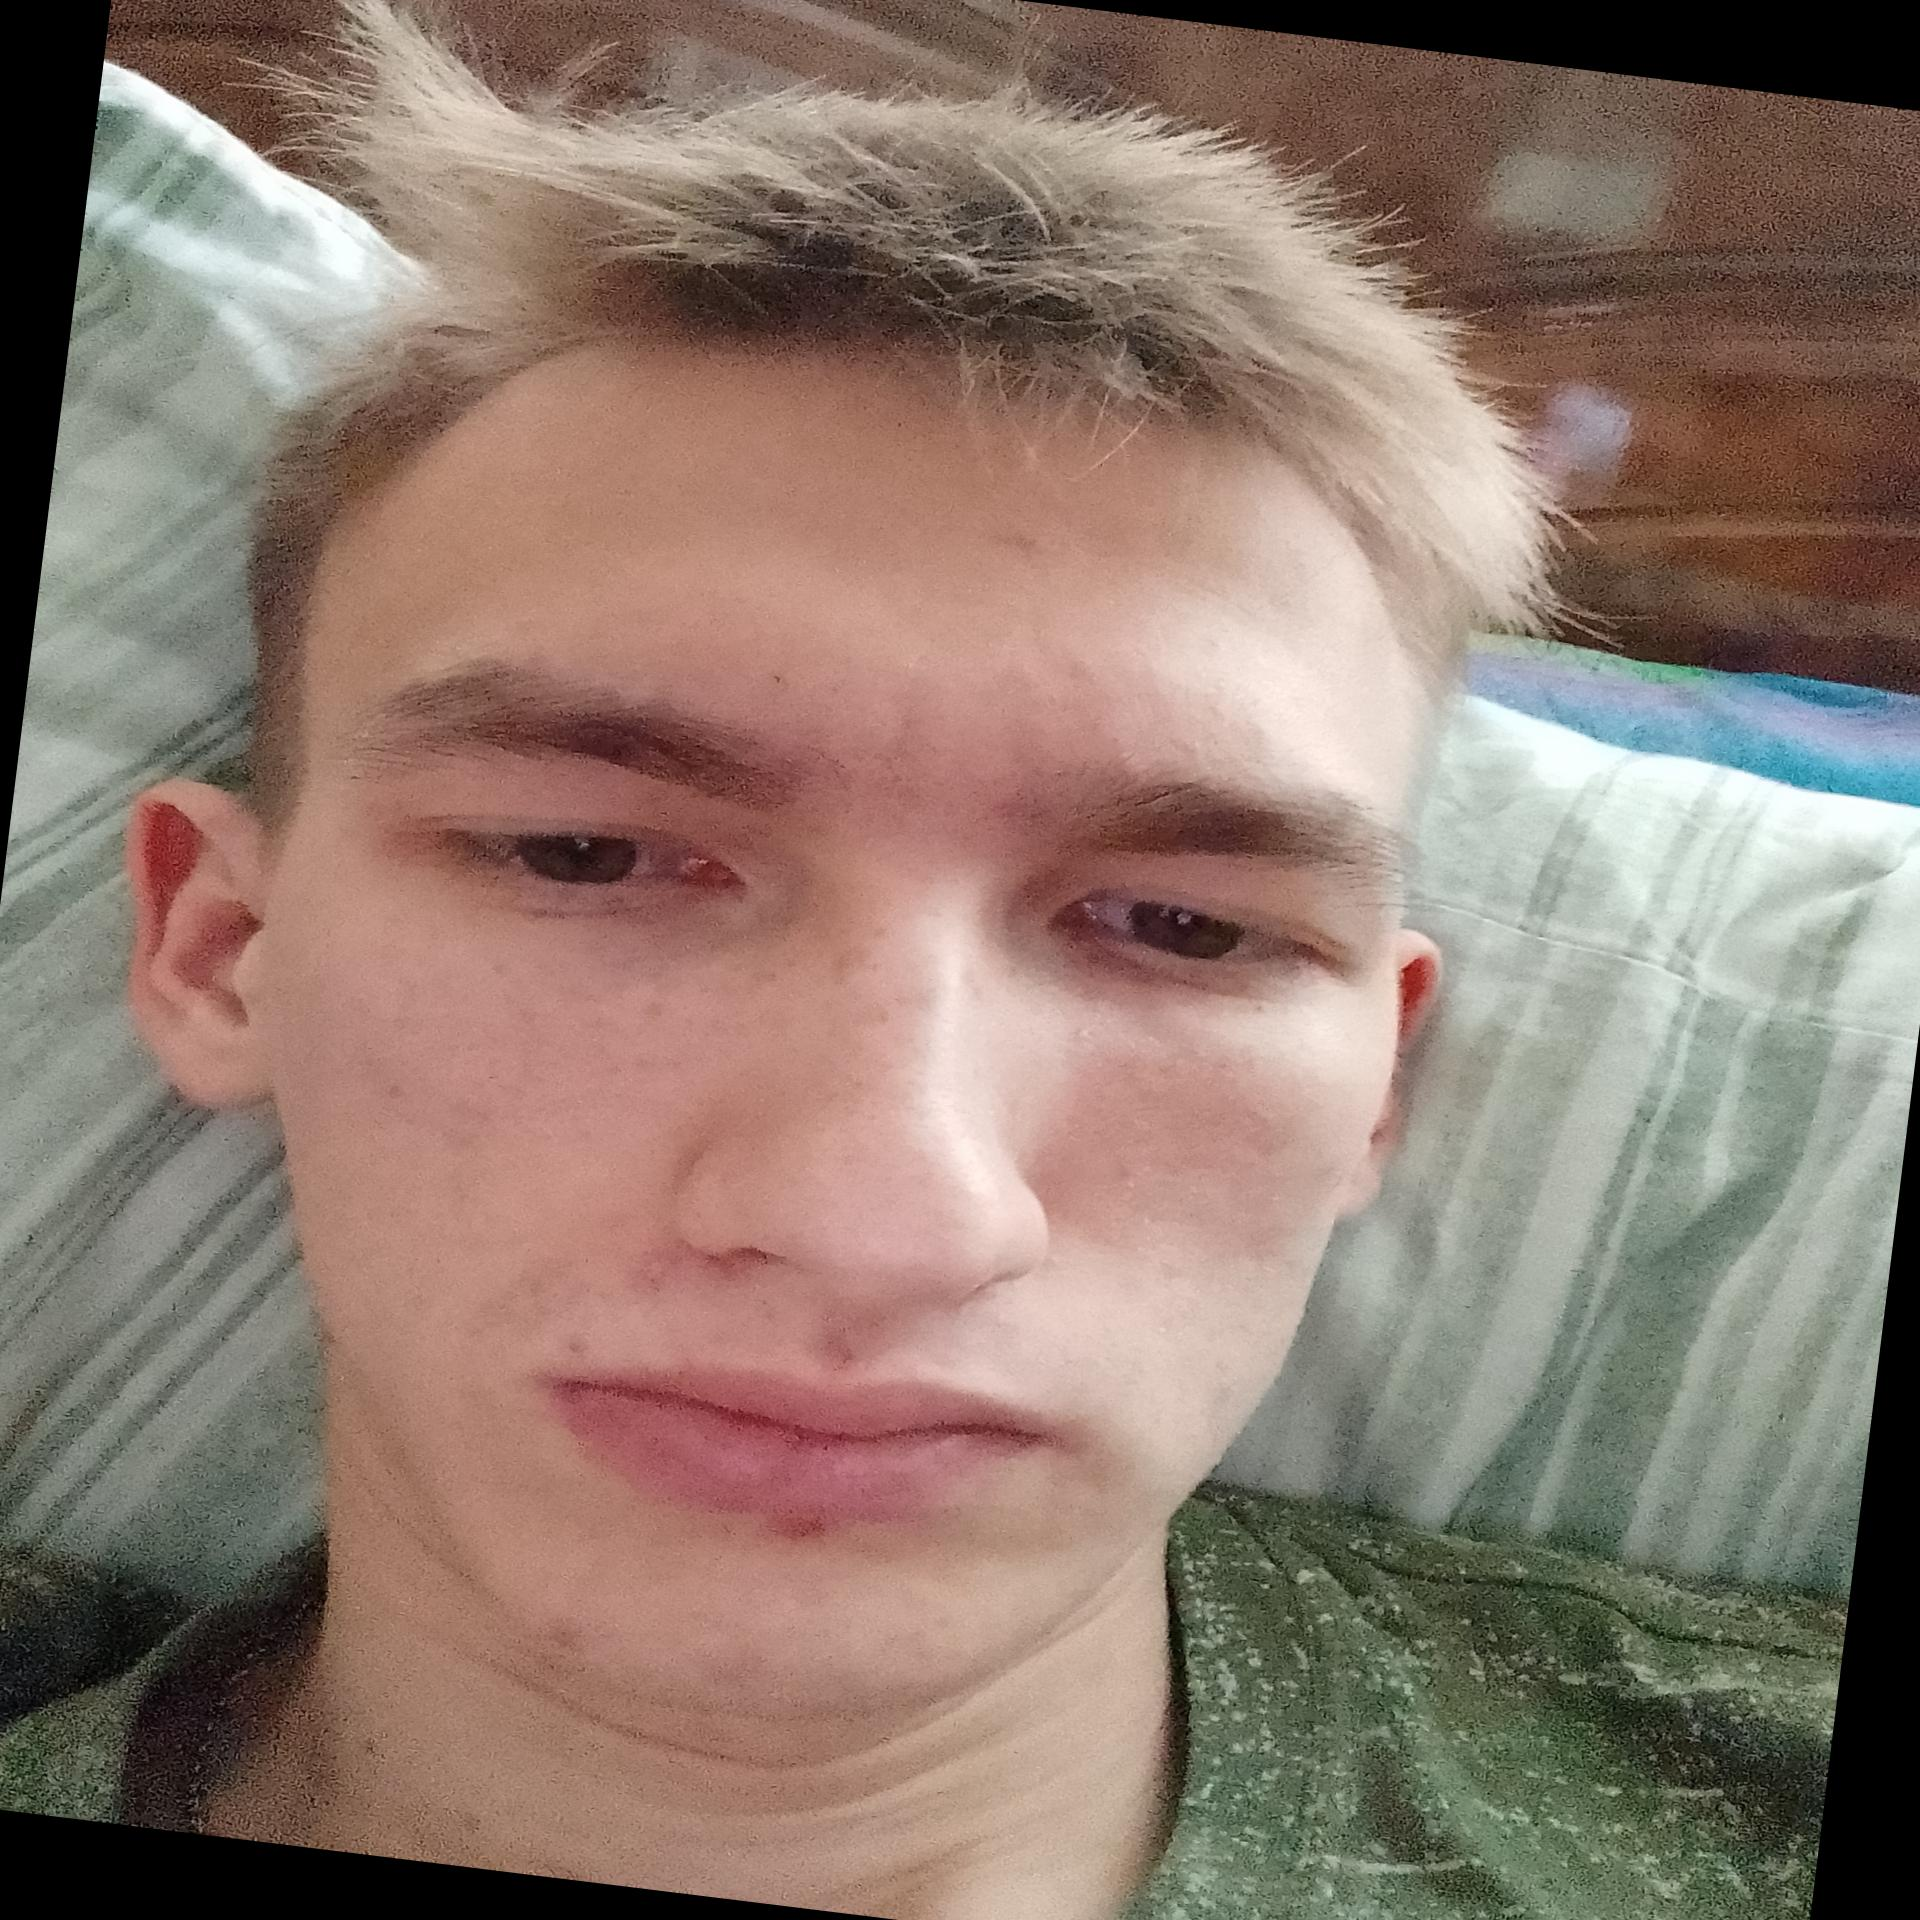Acne: (971, 513, 1092, 564), (429, 1090, 492, 1171), (522, 1605, 598, 1672), (744, 1503, 839, 1549), (1201, 1349, 1252, 1414), (825, 1329, 881, 1384), (617, 1248, 672, 1303), (1145, 1241, 1197, 1289), (557, 1327, 610, 1373), (378, 1073, 422, 1109)
